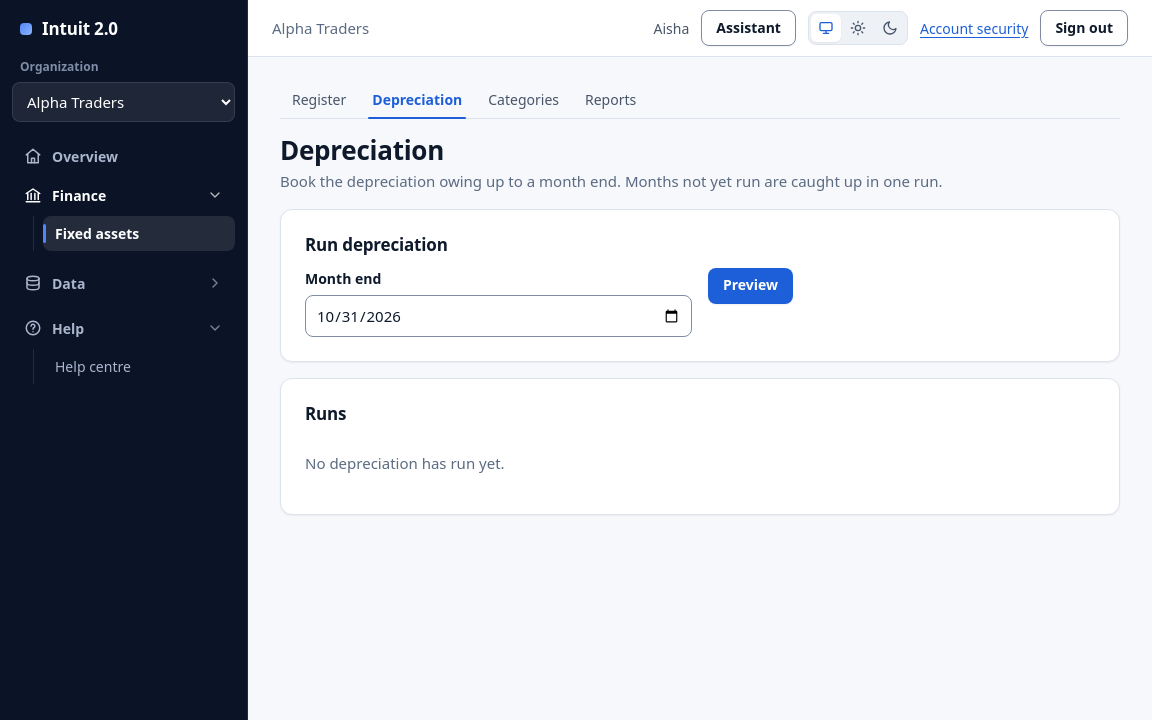
it: depreciation page › hides posting from a viewer
Click the button "Preview".
click(751, 286)  # box top-left (708, 268), bottom-right (793, 304)
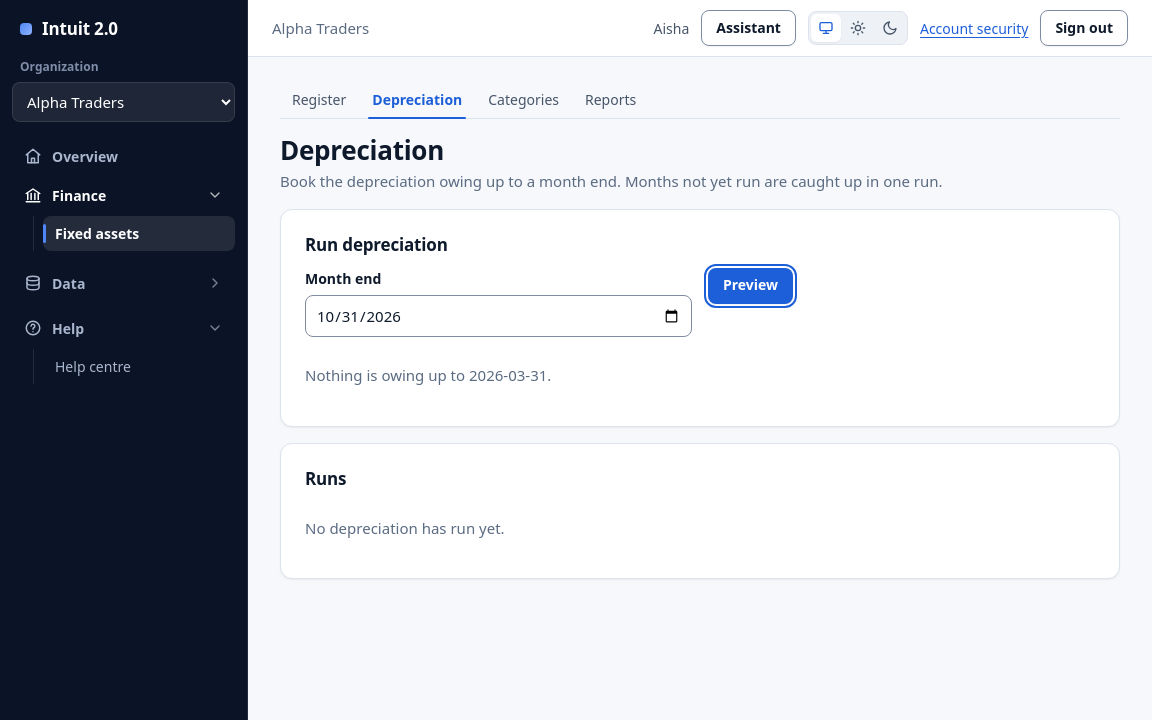
Check: the text "Nothing is owing up to 2026-03-31." is shown, box top-left (305, 365), bottom-right (551, 385)
